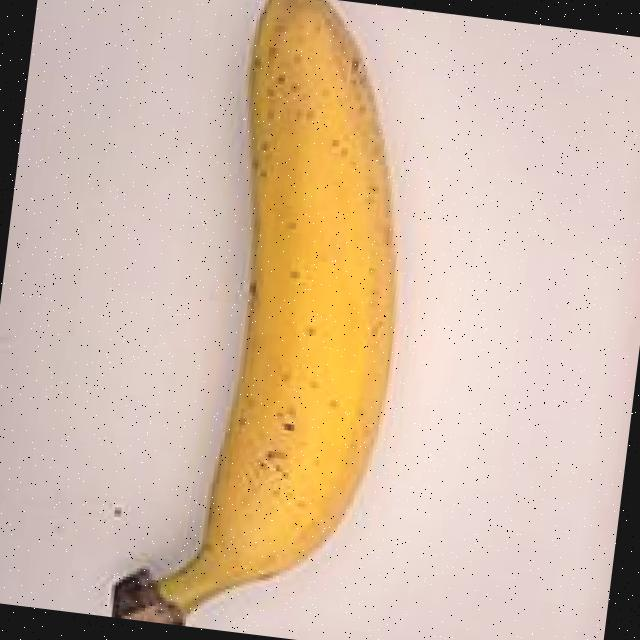Ripe: (18, 0, 497, 640)
